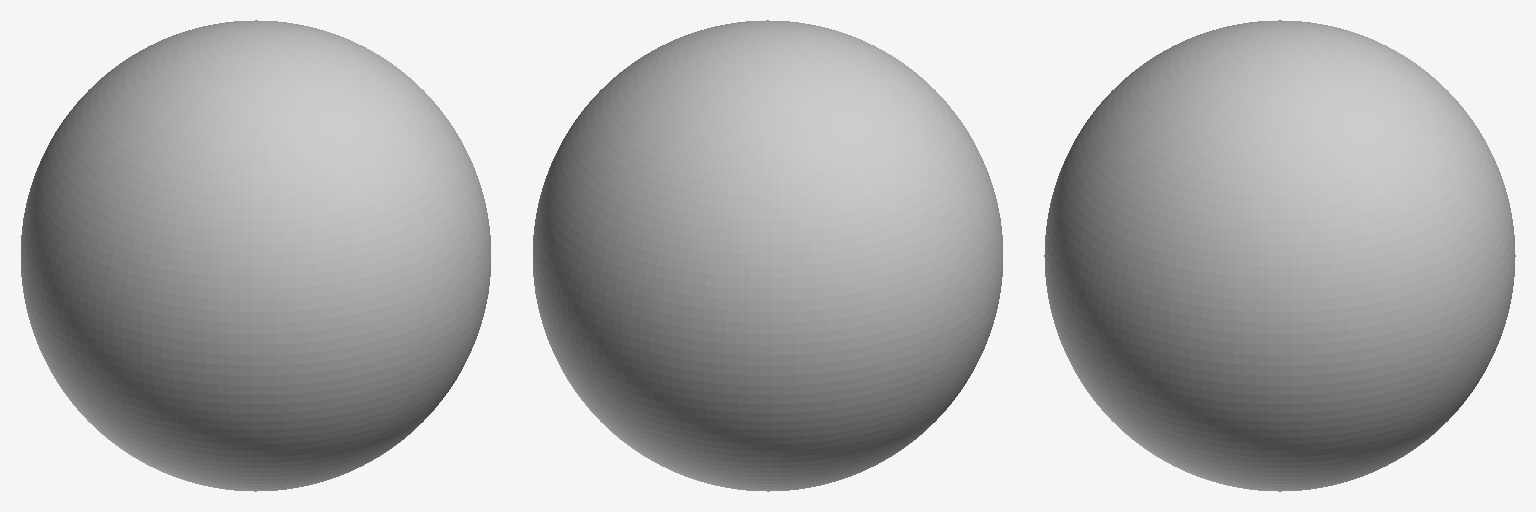
File: Jupiter.obj
3 views of the same model, side by side, from view 1: azimuth 30°, elevation 25°; view 2: azimuth 150°, elevation 25°; view 3: azimuth 270°, elevation 25° (orthographic).
Parts seen in each view (by area): view 1: Esfera; view 2: Esfera; view 3: Esfera.
Boxes of the visible parts, x1,y1,x2,y2 form: Esfera: [21, 20, 490, 491]; Esfera: [533, 20, 1002, 491]; Esfera: [1044, 20, 1515, 491].
Size of the model in its own units: 2 by 2 by 2.